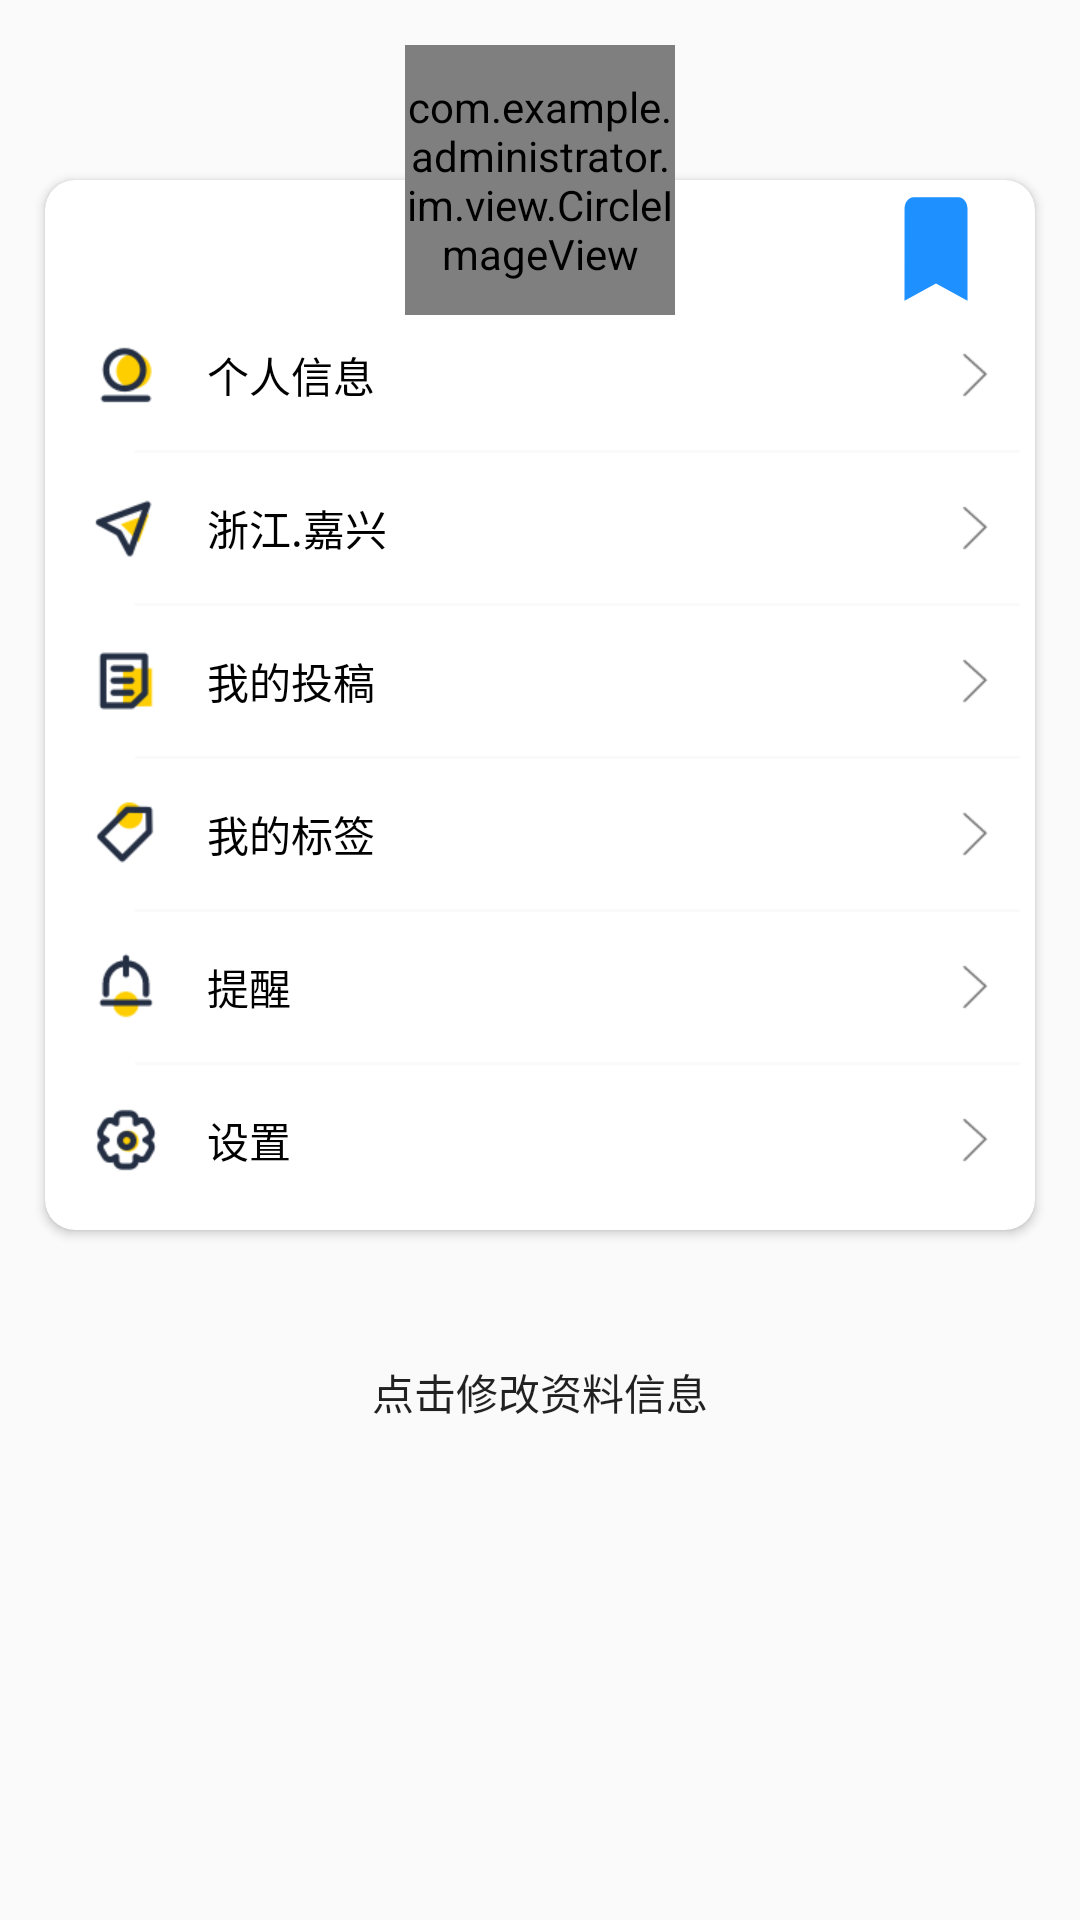

Screen size 1080*1920. Icon name, then its center in pixels as [x,y]:
bookmark: [936,249]
